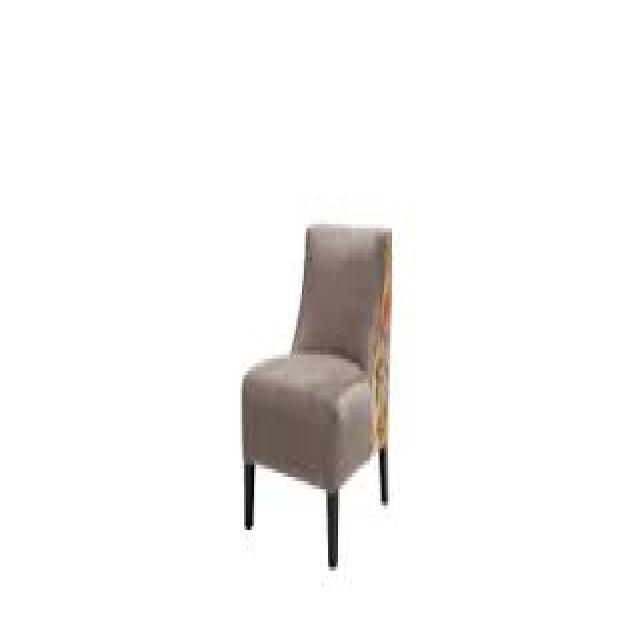chair: (206, 167, 448, 640)
